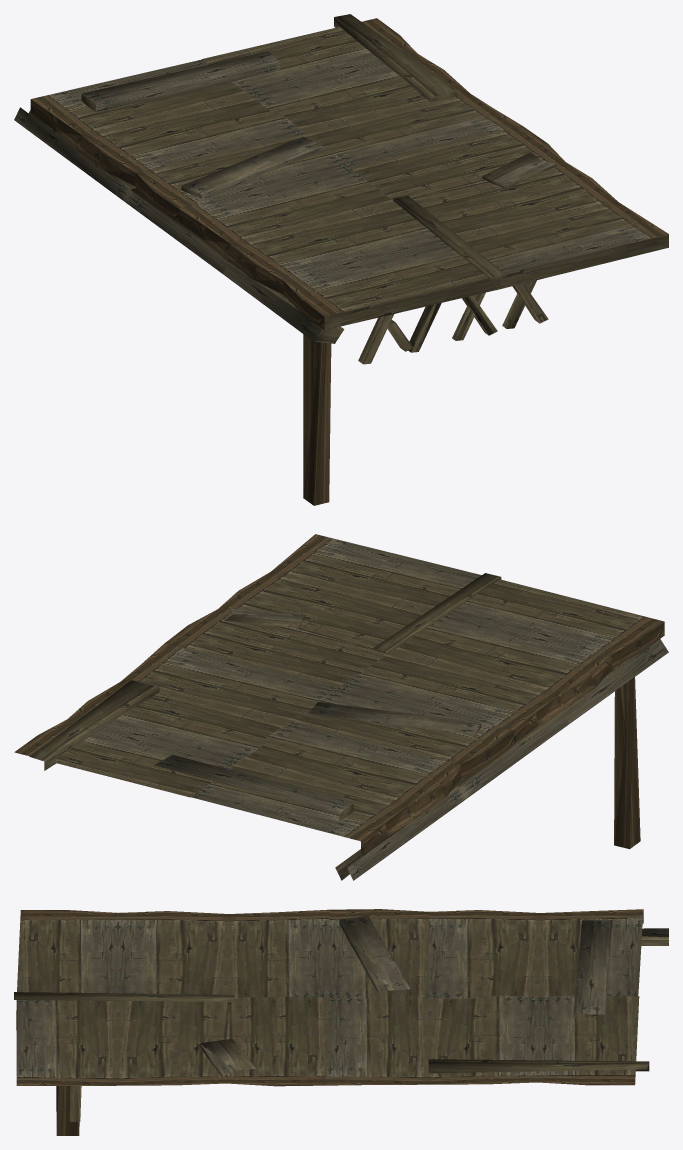
Rendered from S_Build_Village038_A1.FBX.
3 renders of one model, top to bottom at view 1: azimuth 30°, elevation 25°; view 2: azimuth 150°, elevation 25°; view 3: azimuth 270°, elevation 25°, orthographic. The views are drawn at different scales.
Visible parts, largest first — view 1: S_Build_Village038_A1; view 2: S_Build_Village038_A1; view 3: S_Build_Village038_A1.
Part boxes in pixels (x1,y1,x2,y2): S_Build_Village038_A1: (14, 14, 668, 505); S_Build_Village038_A1: (14, 534, 668, 880); S_Build_Village038_A1: (14, 909, 668, 1135).
Bounding box in the file's own units: 707 × 407 × 1081.
